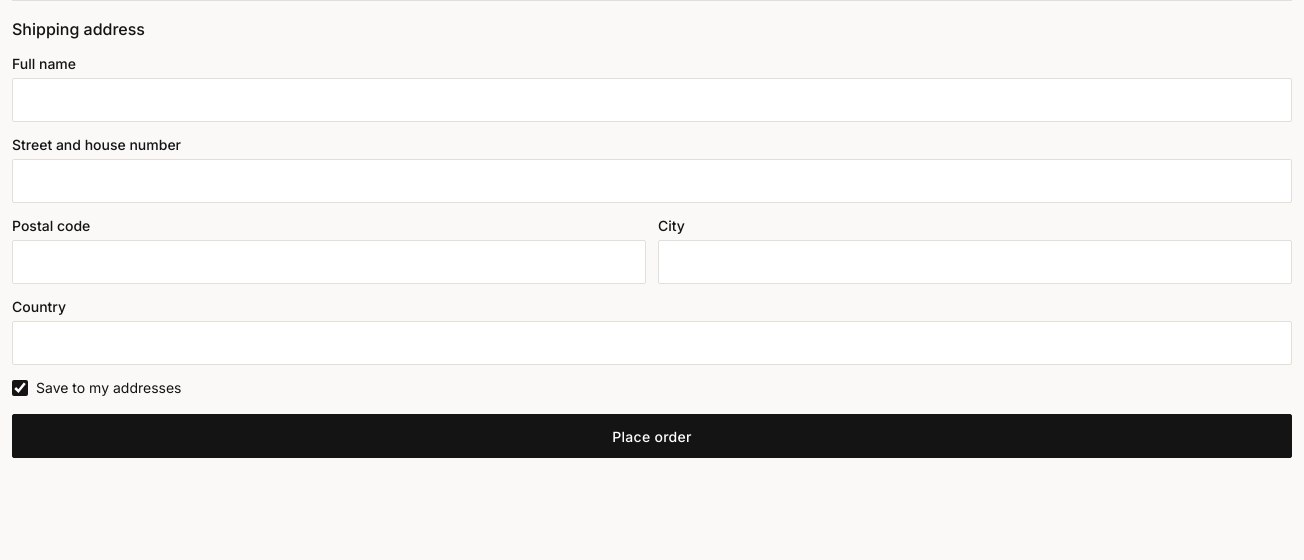
Test: CheckoutForm › shows server validation errors next to the fields
Expected: the field labelled "City" is shown, [658,240,1292,284]
Step 1. Type "Bob Brown" into the field labelled "Full name" → [652, 100], box [12,78,1292,122]
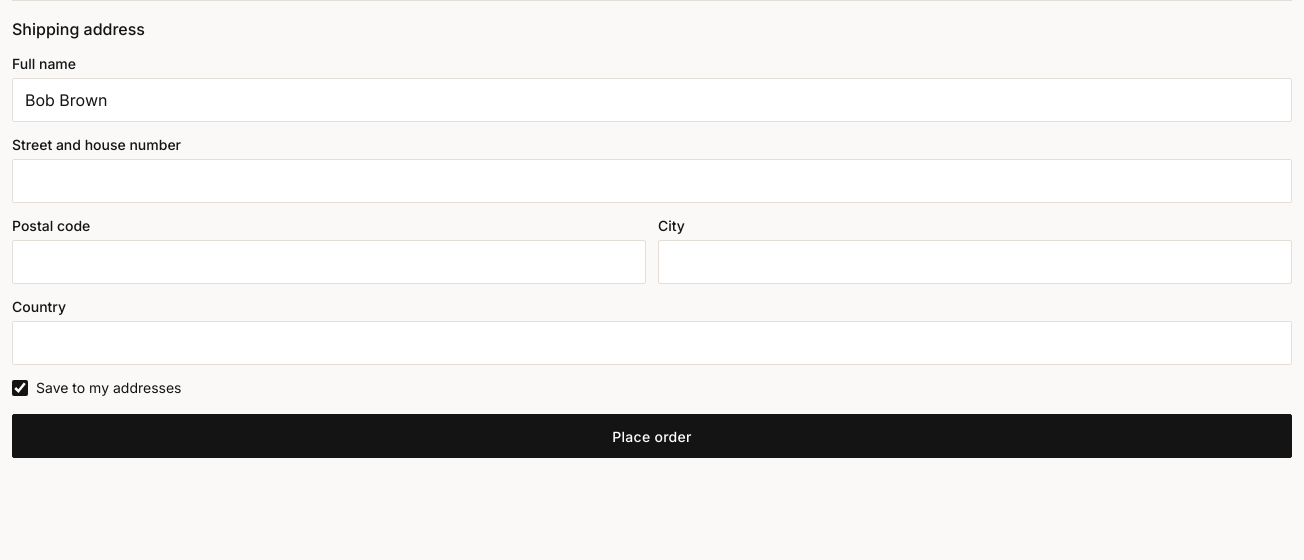
Step 2. Type "Long road 7" into the field labelled "Street and house number" → [652, 181], box [12,159,1292,203]
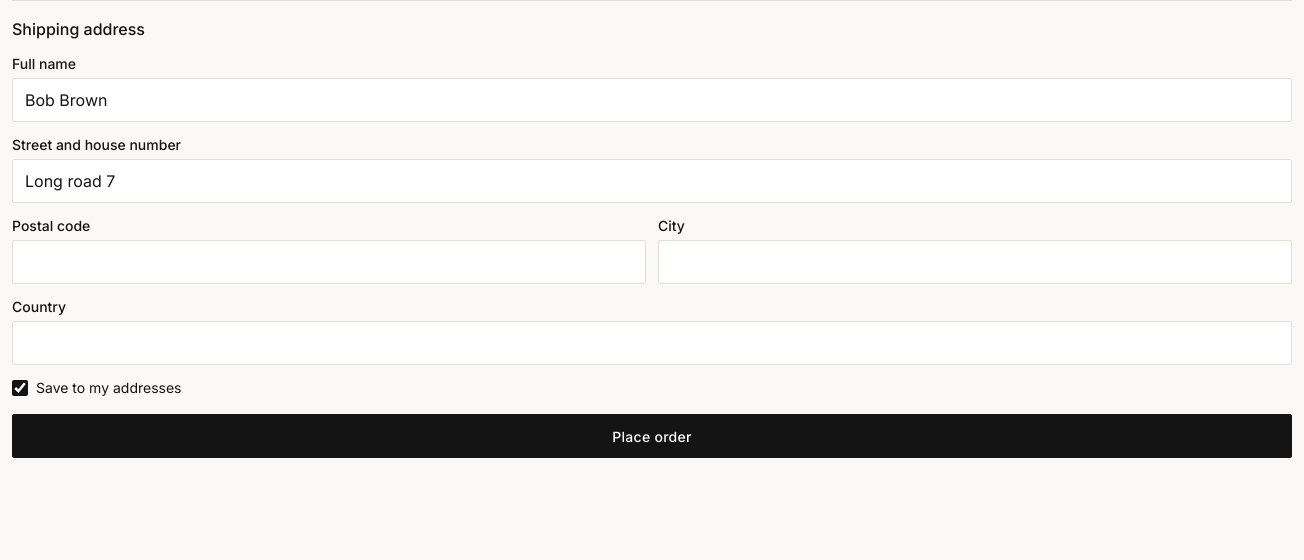
Step 3. Type "10-100" into the field labelled "Postal code" → [329, 262], box [12,240,646,284]
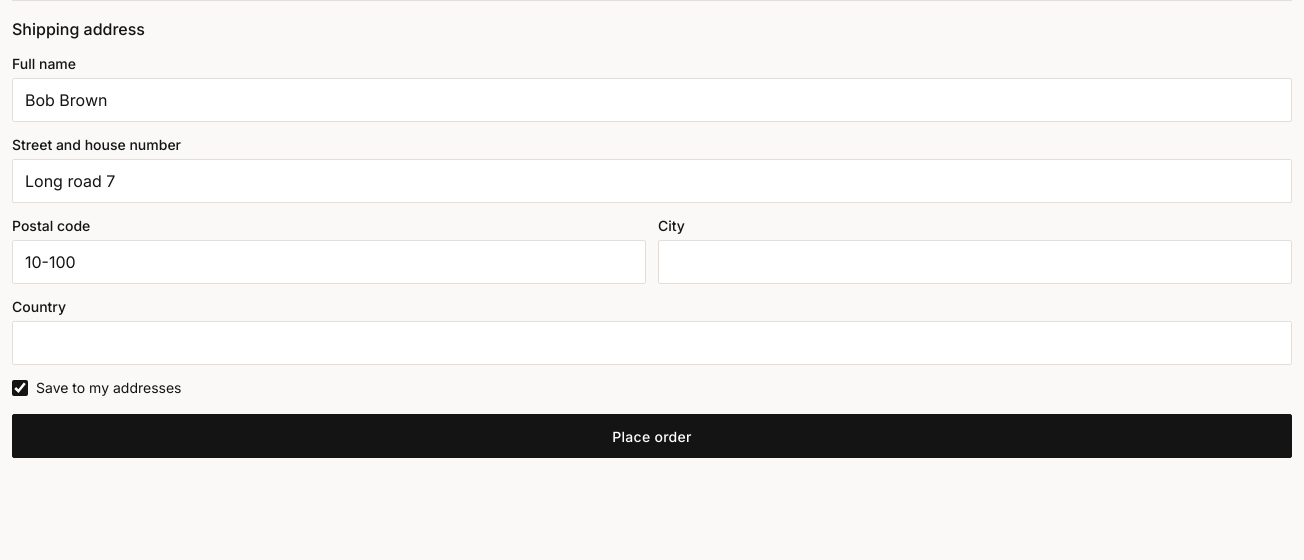
Step 4. Type "Gdansk" into the field labelled "City" → [975, 262], box [658,240,1292,284]
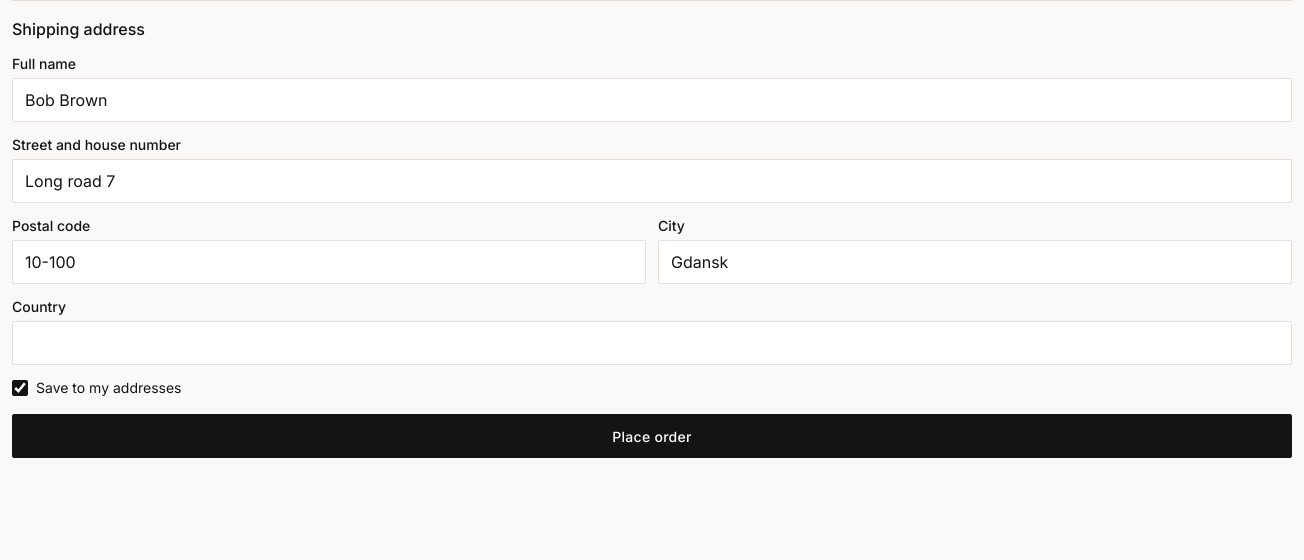
Step 5. Type "Poland" into the field labelled "Country" → [652, 343], box [12,321,1292,365]
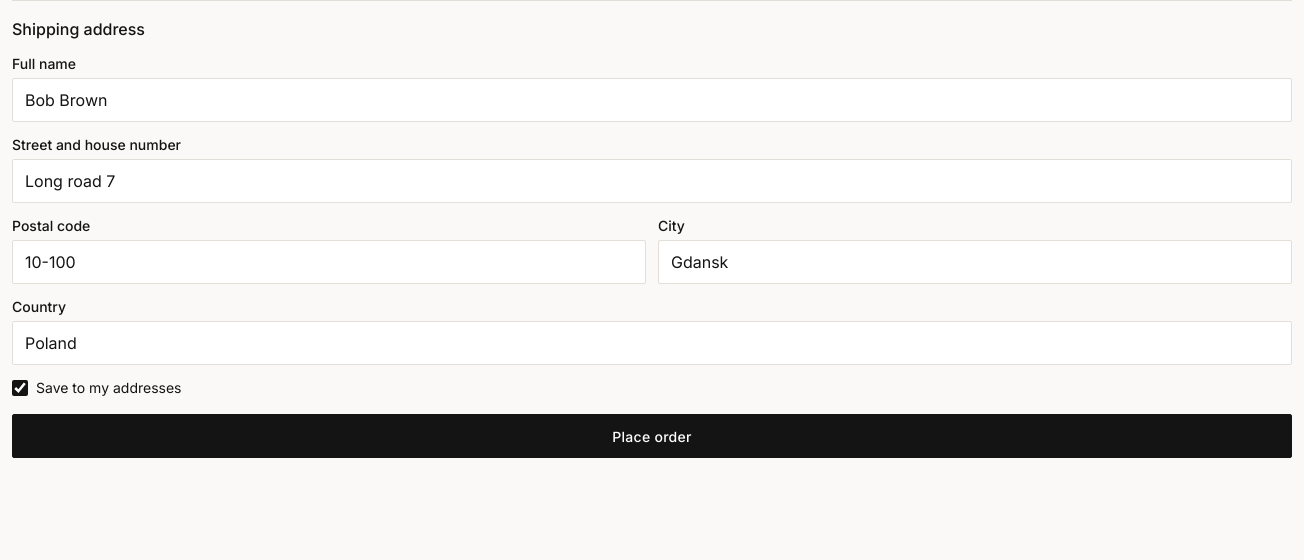
Step 6. Click the button "Place order" → [652, 436], box [12,414,1292,458]
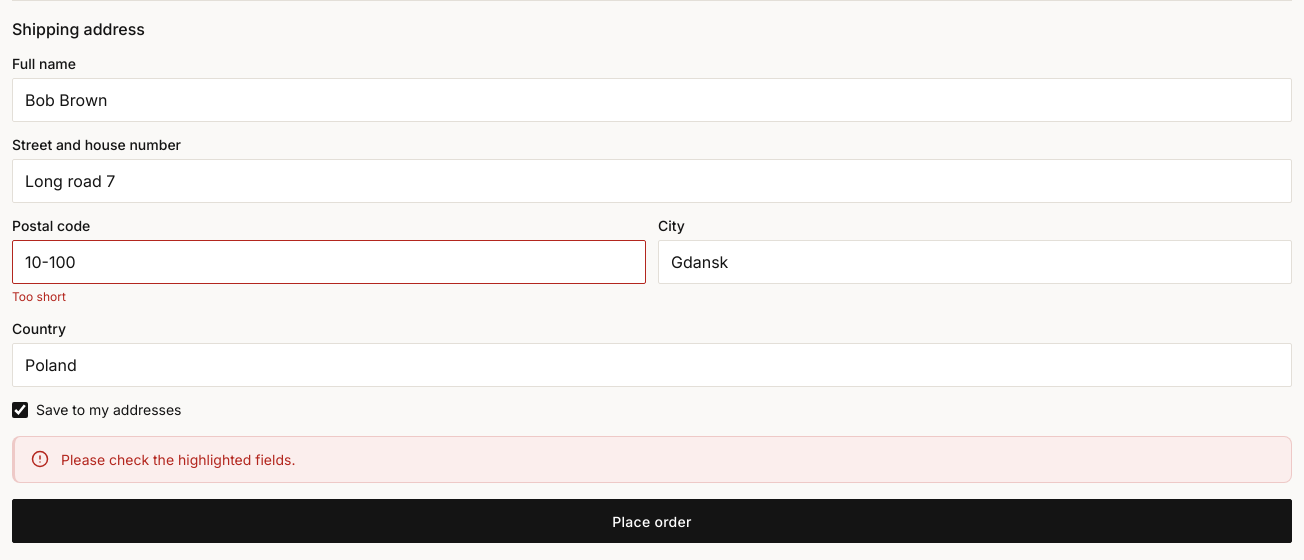
Result: the text "Too short" is shown at [12,289,66,304]
